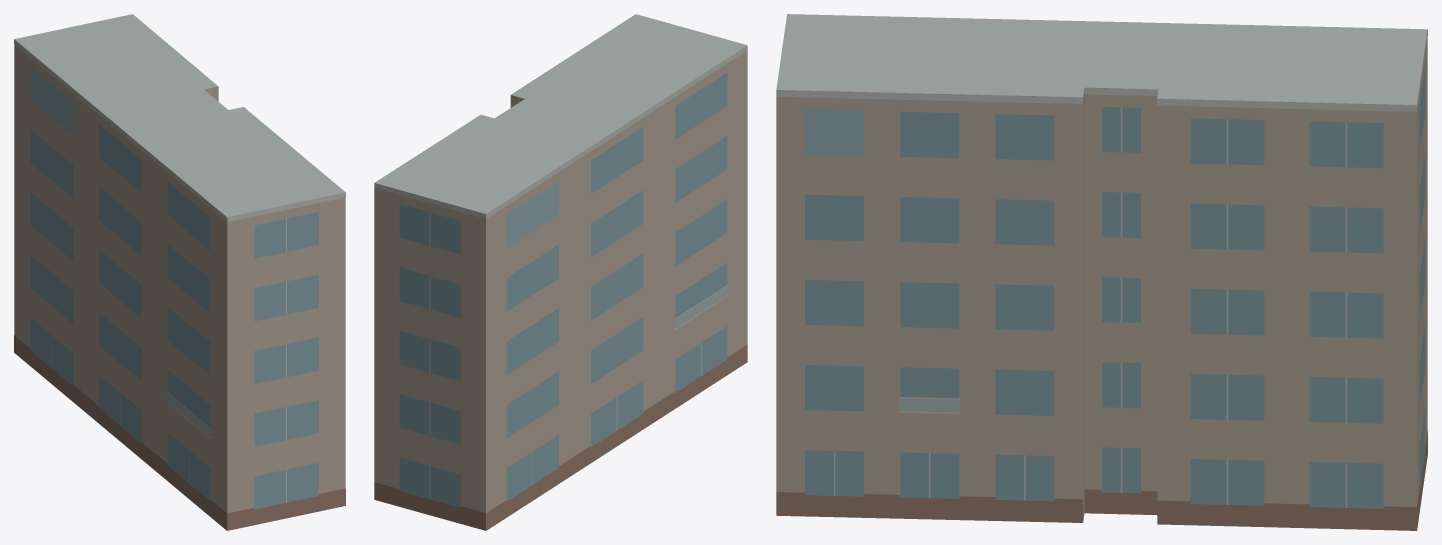
File: survey-upis-32542906.glb
3 views of the same model, side by side, from view 1: azimuth 30°, elevation 25°; view 2: azimuth 150°, elevation 25°; view 3: azimuth 270°, elevation 25° (orthographic). The views are drawn at different scales.
Parts seen in each view (by area): view 1: survey-upis-32542906.tmp; view 2: survey-upis-32542906.tmp; view 3: survey-upis-32542906.tmp.
Boxes of the visible parts, left/top/right/bottom form: survey-upis-32542906.tmp: left=14, top=14, right=345, bottom=530; survey-upis-32542906.tmp: left=374, top=14, right=747, bottom=530; survey-upis-32542906.tmp: left=776, top=14, right=1427, bottom=530.
Bounding box in the file's own units: 7.01 × 15.25 × 21.16.
